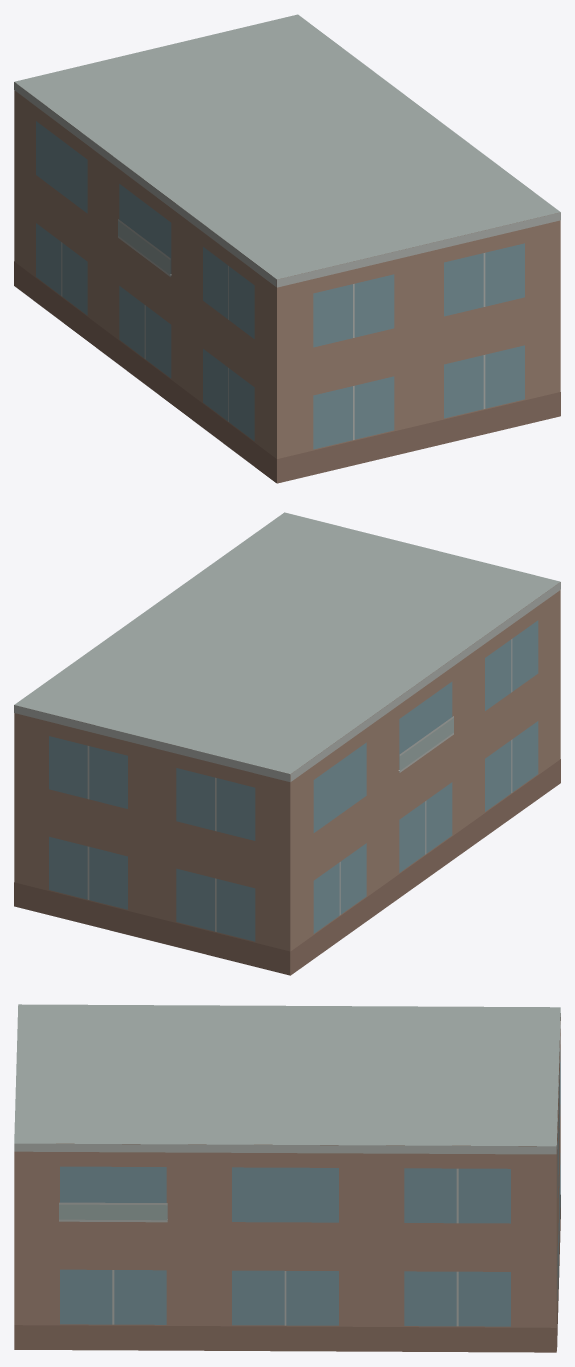
Rendered from survey-upis-32817281.glb.
3 views of the same model, one above another, from view 1: azimuth 30°, elevation 25°; view 2: azimuth 150°, elevation 25°; view 3: azimuth 270°, elevation 25° (orthographic). The views are drawn at different scales.
Visible parts, largest first — view 1: survey-upis-32817281.tmp; view 2: survey-upis-32817281.tmp; view 3: survey-upis-32817281.tmp.
Boxes of the visible parts, bbox=[...] form: survey-upis-32817281.tmp: bbox=[14, 14, 560, 483]; survey-upis-32817281.tmp: bbox=[14, 512, 560, 975]; survey-upis-32817281.tmp: bbox=[14, 1004, 560, 1352].
Bounding box in the file's own units: 9 × 6.1 × 14.66.
